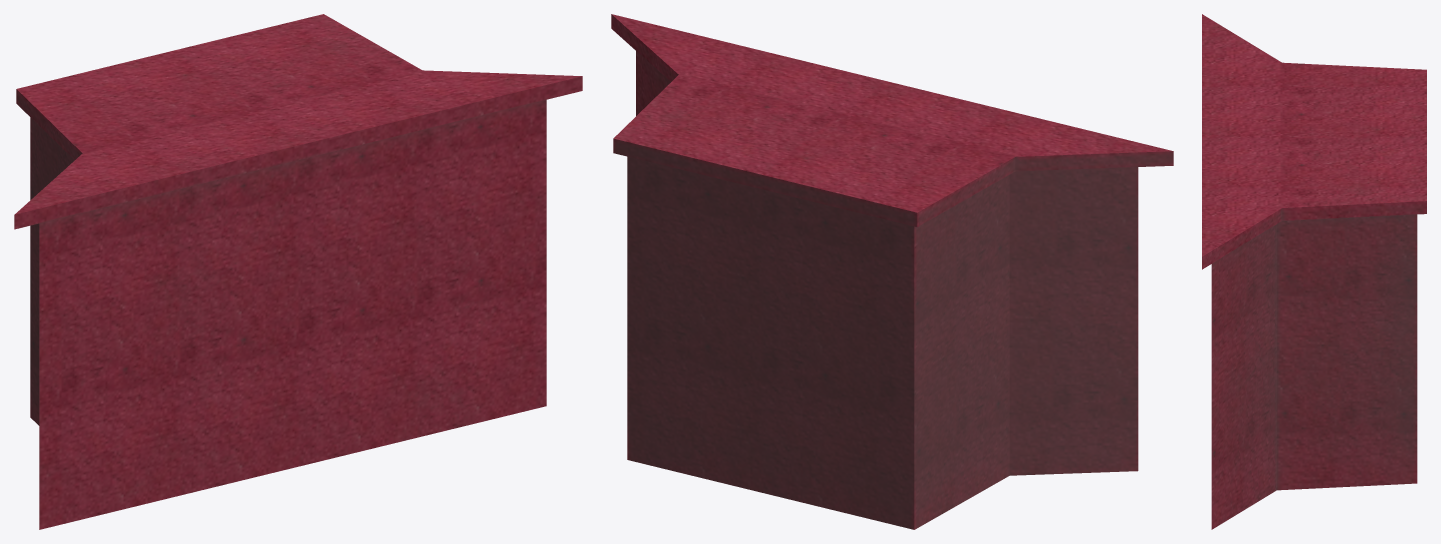
File: SM_Red_gap.fbx
The picture shows the model from 3 angles, left to right: view 1: azimuth 30°, elevation 25°; view 2: azimuth 150°, elevation 25°; view 3: azimuth 270°, elevation 25°; orthographic projection. The views are drawn at different scales.
Parts seen in each view (by area): view 1: SM_Red_gap; view 2: SM_Red_gap; view 3: SM_Red_gap.
Boxes of the visible parts, left/top/right/bottom form: SM_Red_gap: left=14, top=14, right=582, bottom=529; SM_Red_gap: left=611, top=14, right=1173, bottom=529; SM_Red_gap: left=1202, top=14, right=1426, bottom=529.
Size of the model in its own units: 155 by 60.8 by 85.32.
1 material, 1 textured.
